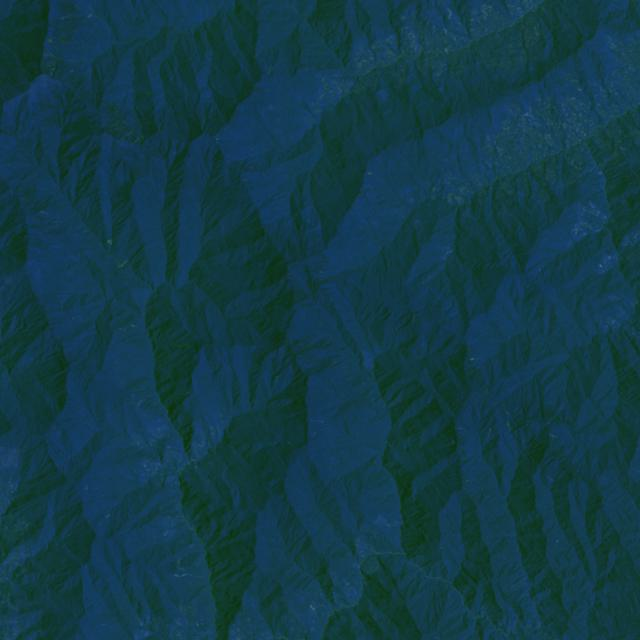landslides: (42, 51, 80, 66), (61, 9, 79, 20), (175, 573, 202, 579), (312, 428, 327, 437), (136, 398, 149, 408), (311, 601, 325, 609), (507, 411, 512, 431)
